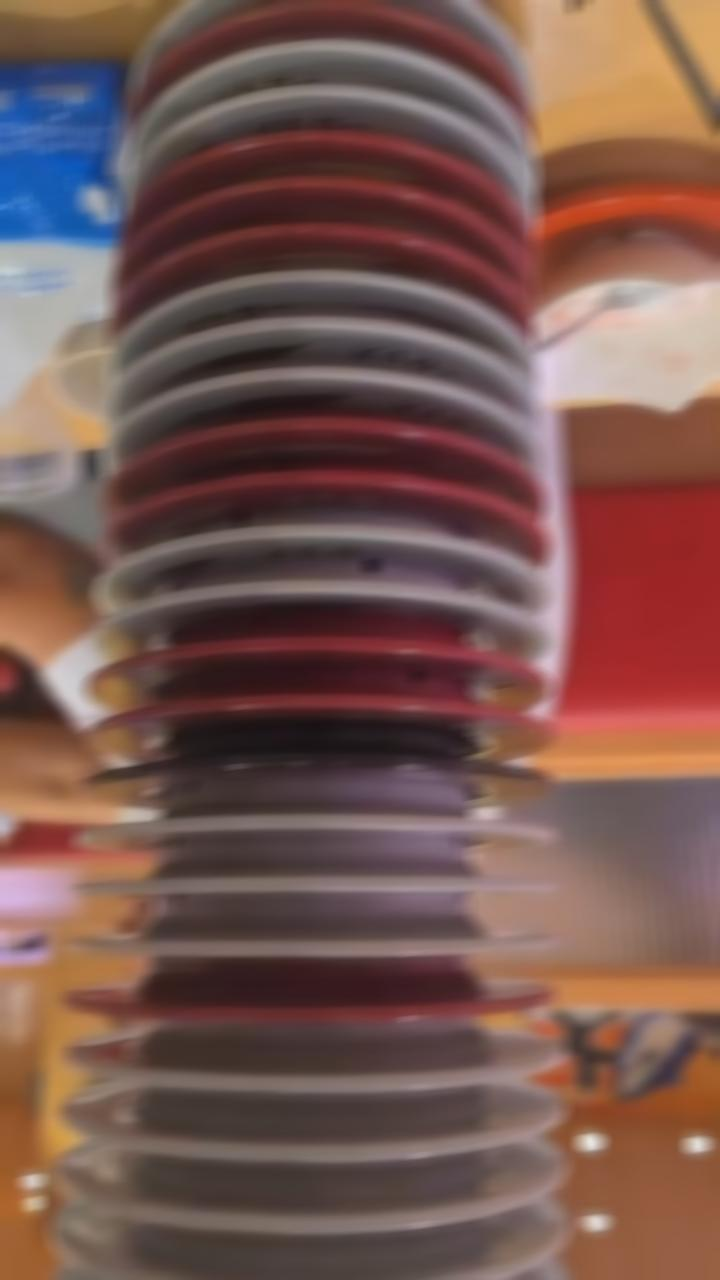Janback: (110, 742, 535, 768)
Janred: (110, 627, 516, 684), (67, 971, 554, 1017), (97, 683, 564, 728), (155, 463, 518, 507), (141, 416, 488, 461), (171, 174, 479, 212), (158, 223, 475, 257), (209, 141, 463, 166), (204, 15, 457, 31)
Janwhite: (66, 1170, 564, 1222), (52, 1232, 580, 1278), (66, 850, 582, 895), (57, 906, 562, 947), (68, 797, 550, 835), (66, 1049, 565, 1084), (129, 532, 501, 569), (121, 582, 552, 613), (164, 371, 528, 405), (81, 1127, 562, 1152), (73, 1093, 574, 1117), (153, 288, 487, 323), (153, 334, 514, 361), (186, 94, 476, 126), (188, 51, 462, 84), (122, 5, 203, 37), (452, 12, 538, 28)
